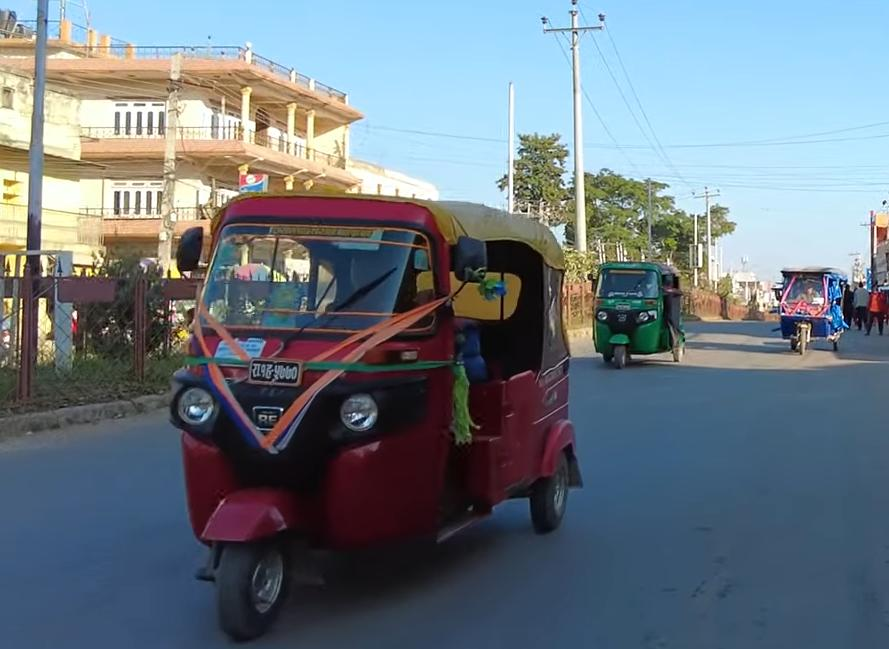auto_rickshaw: (166, 185, 596, 648), (588, 252, 694, 375)
e-rickshaw: (775, 261, 848, 361)
